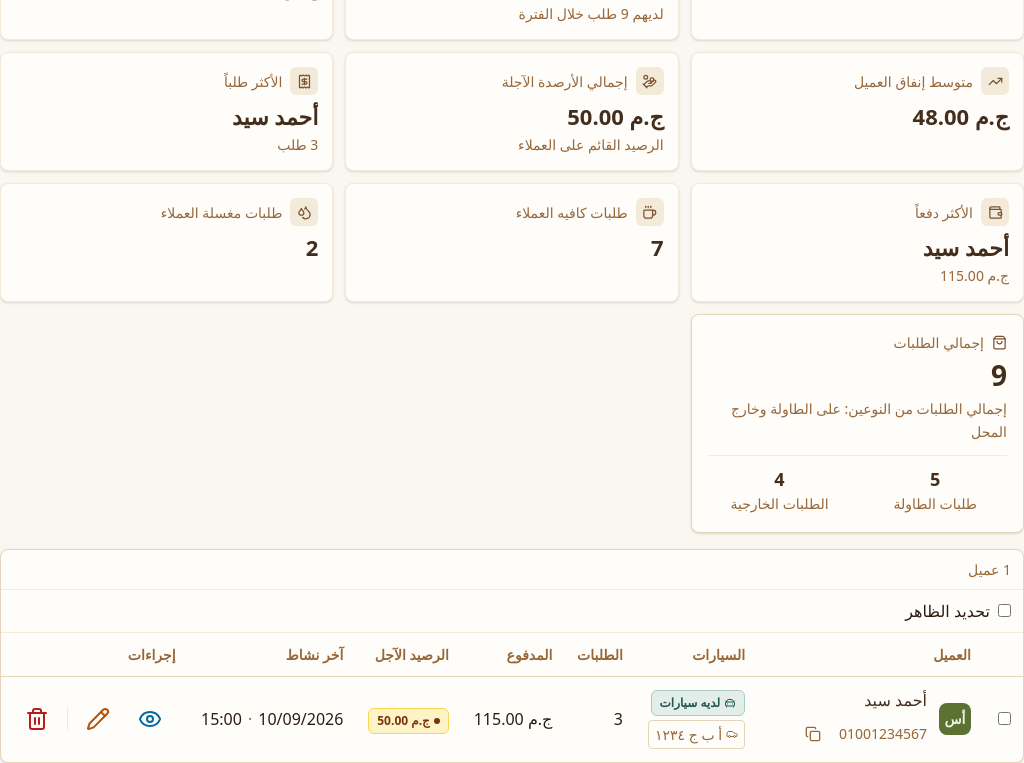
Test: CustomersPage — permanent delete (ADMIN only) › deletes on confirm and refreshes the customer queries
(page scrolled)
Step 1. Click the button with test id "customer-row-delete" → (37, 719), box [13,695,61,743]
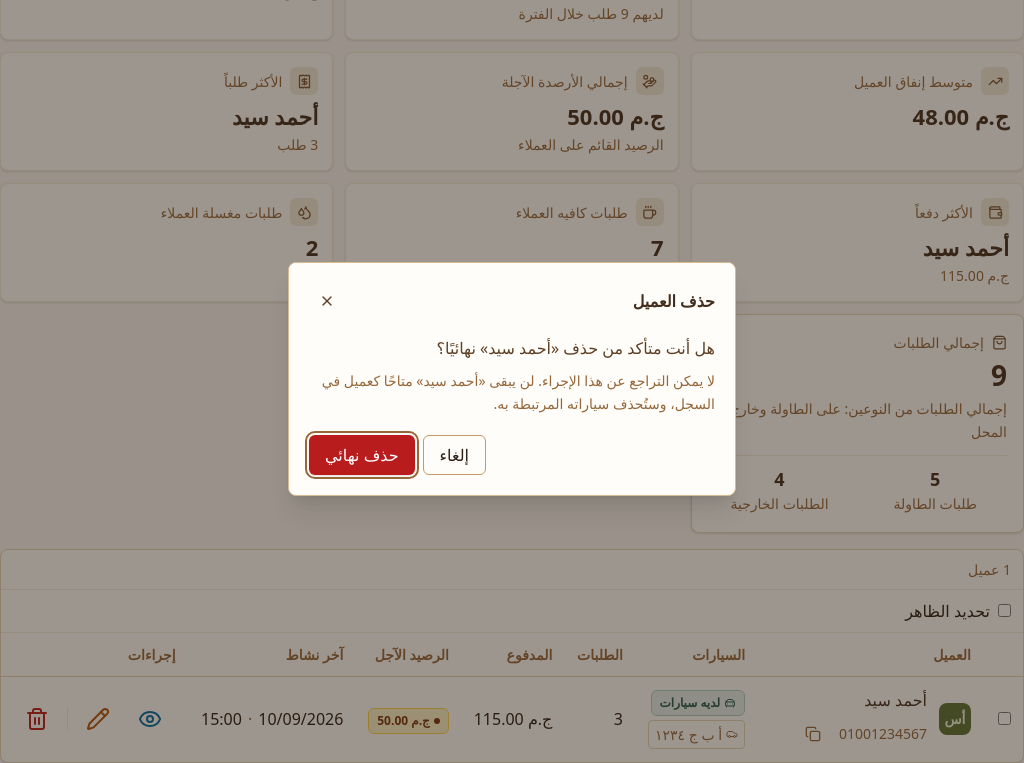
Step 2. Click the button "حذف نهائي" → (362, 455), box [309,435,414,475]
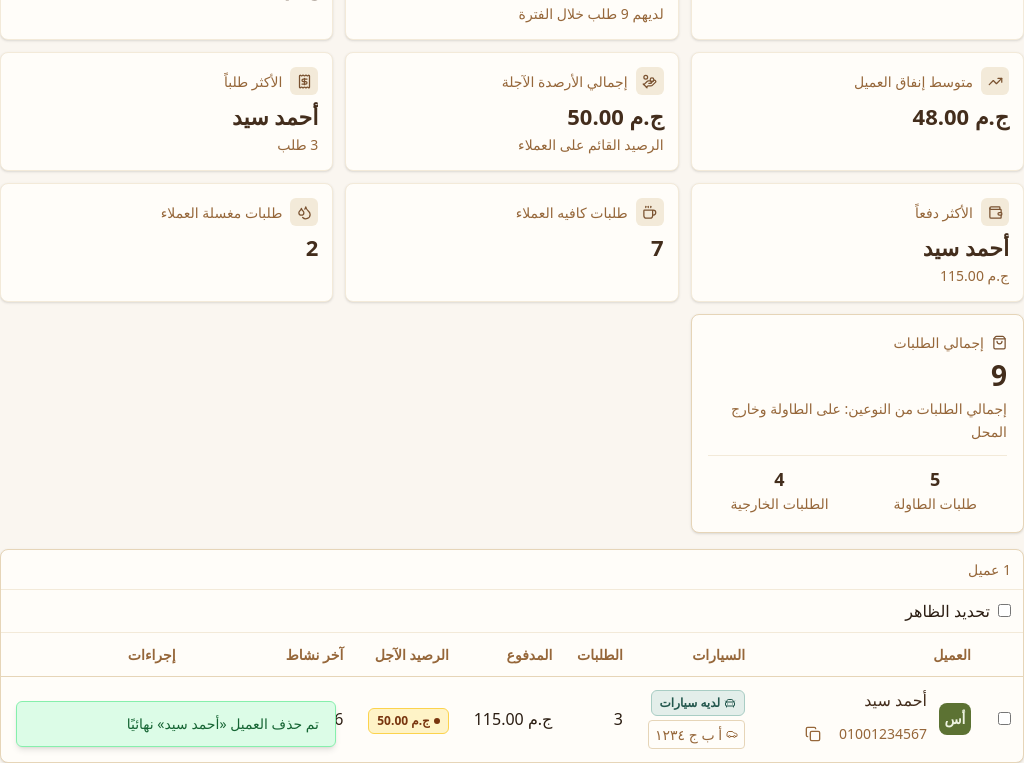
Expected: the text "تم حذف العميل «أحمد سيد» نهائيًا" is shown, [16,701,336,747]
